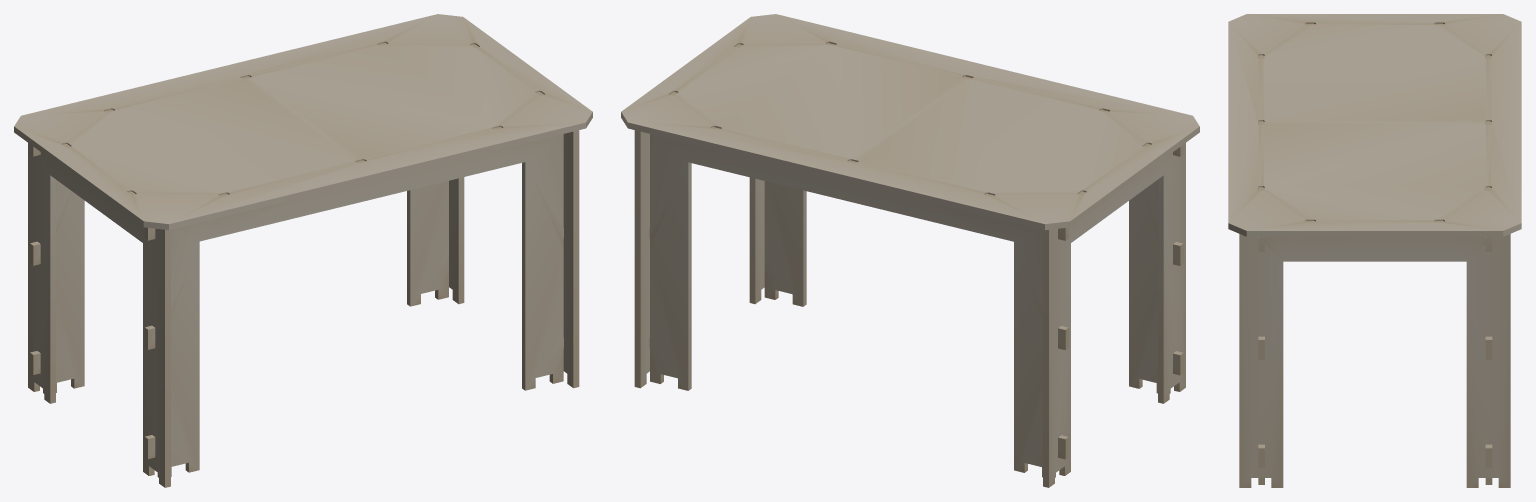
The model's file is NODO_MESA_COMEDOR_PORTICO_KIRI_MDF18_DXF_V2.glb.
3 views of the same model, side by side, from view 1: azimuth 30°, elevation 25°; view 2: azimuth 150°, elevation 25°; view 3: azimuth 270°, elevation 25° (orthographic).
Parts seen in each view (by area): view 1: Tapa MDF 18mm, Bastidor longitudinal 12, Bastidor transversal 13, Bastidor longitudinal 11, Bastidor transversal 14; view 2: Tapa MDF 18mm, Bastidor longitudinal 11, Bastidor transversal 13, Bastidor longitudinal 12, Bastidor transversal 14; view 3: Tapa MDF 18mm, Bastidor transversal 14, Bastidor longitudinal 11, Bastidor longitudinal 12.
Boxes of the visible parts, x1,y1,x2,y2 form: Tapa MDF 18mm: (14, 14, 592, 230); Bastidor longitudinal 12: (144, 127, 563, 477); Bastidor transversal 13: (28, 143, 170, 487); Bastidor longitudinal 11: (30, 43, 448, 393); Bastidor transversal 14: (449, 44, 579, 388); Tapa MDF 18mm: (621, 14, 1199, 230); Bastidor longitudinal 11: (649, 127, 1068, 477); Bastidor transversal 13: (1043, 143, 1185, 487); Bastidor longitudinal 12: (764, 43, 1183, 393); Bastidor transversal 14: (634, 44, 764, 388); Tapa MDF 18mm: (1228, 14, 1521, 236); Bastidor transversal 14: (1239, 221, 1510, 487); Bastidor longitudinal 11: (1485, 55, 1492, 484); Bastidor longitudinal 12: (1258, 55, 1264, 484).
Bounding box in the file's own units: 1.4 × 0.799 × 0.8.
